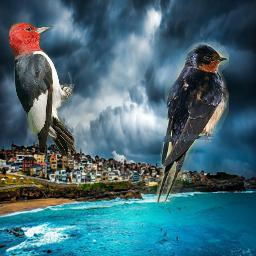Swallow: (153, 42, 229, 204)
Woodpecker: (9, 21, 78, 157)
